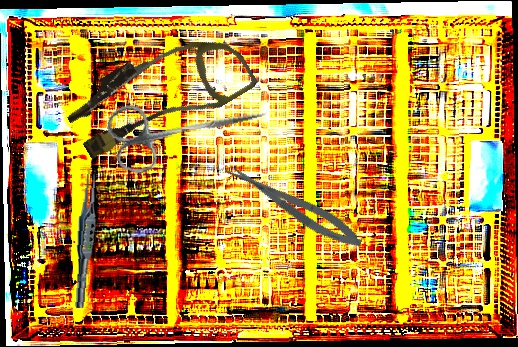Cannula: (58, 10, 260, 178)
Iris Scissors: (103, 77, 274, 178)
Micro Scissor: (222, 154, 367, 256)
Tissue Forceps: (72, 167, 100, 309)
